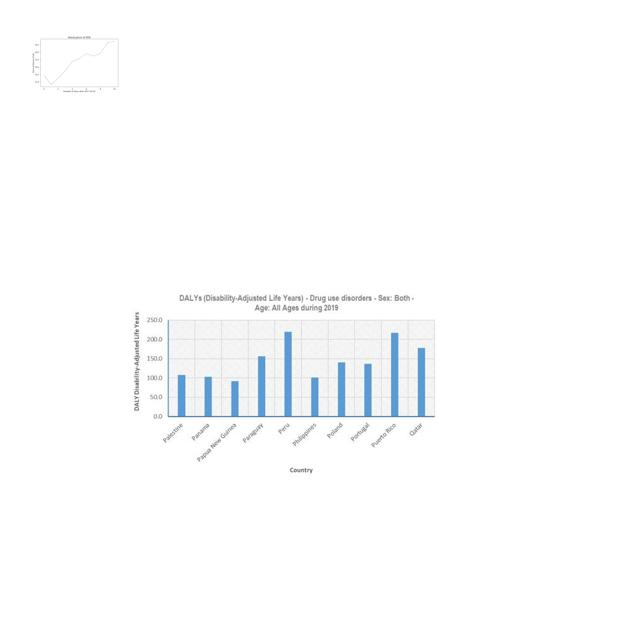Graph: (128, 289, 439, 480), (28, 28, 128, 97)
